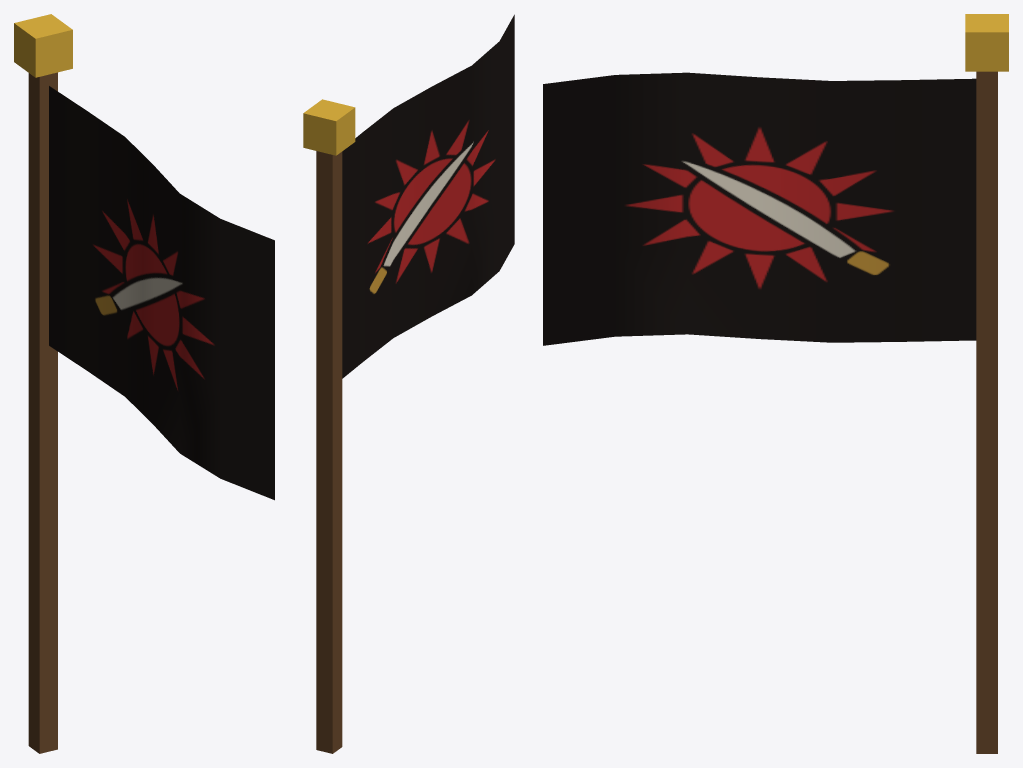
Rendered from flag-redtide.glb.
The picture shows the model from 3 angles, left to right: view 1: azimuth 30°, elevation 25°; view 2: azimuth 150°, elevation 25°; view 3: azimuth 270°, elevation 25°; orthographic projection. The views are drawn at different scales.
Visible parts, largest first — view 1: flag; view 2: flag; view 3: flag.
Part boxes in pixels (box(x1,y1,x2,y2)): flag: box(14, 14, 274, 753); flag: box(303, 14, 514, 753); flag: box(543, 14, 1008, 753).
Size of the model in its own units: 0.2401 by 4.44 by 2.58.
Materials: 3 (1 with a texture image).
